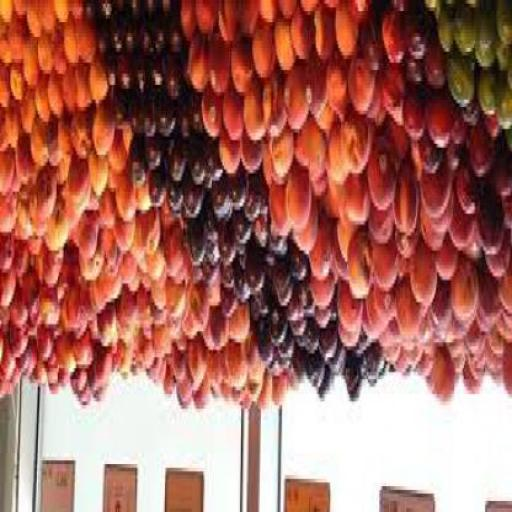biodegradable: (338, 110, 368, 180), (475, 184, 502, 258), (367, 140, 394, 214), (307, 210, 334, 284), (346, 44, 372, 118), (294, 122, 326, 180), (393, 162, 417, 239), (450, 262, 477, 328), (347, 232, 371, 306), (424, 92, 452, 155), (447, 184, 472, 254), (446, 44, 472, 111), (408, 247, 433, 313), (286, 166, 311, 232), (379, 66, 403, 133), (228, 37, 253, 100), (403, 4, 430, 62), (380, 8, 405, 70), (332, 4, 357, 66), (393, 284, 418, 346), (284, 66, 306, 136), (59, 162, 87, 217), (419, 173, 450, 221), (324, 59, 346, 126), (424, 30, 446, 96), (259, 82, 284, 140), (251, 26, 275, 85), (43, 195, 67, 254), (456, 154, 477, 221), (401, 92, 426, 148), (240, 78, 261, 144), (241, 169, 265, 225), (208, 33, 228, 100), (165, 232, 186, 295), (476, 273, 496, 339), (342, 177, 366, 232), (87, 350, 112, 402), (60, 291, 85, 343), (467, 122, 489, 180), (472, 4, 497, 55), (305, 55, 324, 122), (269, 132, 293, 184), (312, 8, 332, 70), (482, 236, 510, 280), (290, 11, 312, 67), (30, 177, 54, 228), (20, 272, 39, 336), (268, 188, 290, 243), (371, 247, 396, 295), (335, 288, 360, 336), (97, 236, 122, 284), (60, 247, 85, 295), (428, 354, 452, 402), (201, 88, 220, 148), (222, 92, 242, 148), (454, 4, 473, 62), (427, 195, 452, 239), (368, 210, 393, 254), (113, 291, 134, 343), (492, 77, 511, 133), (274, 22, 293, 78), (188, 37, 206, 96), (434, 240, 456, 288), (294, 210, 316, 258), (270, 262, 292, 310), (154, 92, 176, 140), (324, 129, 343, 184), (416, 136, 441, 177), (107, 129, 127, 180), (383, 125, 408, 165), (242, 250, 264, 295), (188, 284, 206, 339), (476, 74, 498, 118), (218, 140, 240, 184), (90, 114, 112, 158), (42, 247, 64, 291), (491, 154, 511, 202), (224, 350, 244, 398), (283, 246, 308, 284), (76, 250, 101, 288), (75, 26, 96, 70), (335, 217, 354, 265), (187, 339, 206, 387), (113, 180, 132, 228), (71, 118, 90, 166), (37, 287, 59, 328), (87, 158, 107, 203), (14, 191, 30, 247), (309, 273, 331, 313), (362, 347, 384, 387), (176, 89, 192, 144), (15, 343, 35, 387), (128, 140, 145, 191), (141, 210, 158, 261), (78, 214, 96, 262), (1, 332, 25, 368), (192, 4, 218, 37), (431, 287, 450, 332), (393, 228, 418, 262), (331, 228, 346, 284), (216, 4, 237, 44), (183, 225, 202, 269), (242, 339, 261, 383), (48, 132, 70, 170), (437, 4, 452, 59), (68, 368, 88, 409), (343, 358, 360, 406), (227, 169, 244, 217), (128, 52, 144, 103), (72, 70, 89, 118), (372, 291, 394, 328), (2, 106, 20, 151), (13, 143, 31, 188), (464, 321, 484, 361), (199, 199, 217, 243), (96, 306, 114, 350), (97, 195, 116, 236), (54, 339, 73, 380), (99, 269, 120, 306), (133, 339, 154, 376), (208, 310, 224, 358), (46, 78, 62, 126), (168, 143, 185, 188), (227, 346, 244, 391), (22, 41, 37, 92), (366, 295, 385, 335), (166, 284, 185, 324), (240, 140, 261, 176), (237, 4, 258, 40), (302, 358, 323, 394), (165, 173, 182, 217), (89, 70, 107, 111), (366, 81, 380, 133), (314, 332, 336, 365), (404, 62, 423, 100), (203, 150, 222, 188), (496, 269, 511, 317), (262, 144, 277, 192), (140, 88, 155, 136), (33, 81, 48, 129), (134, 288, 149, 336), (113, 347, 131, 387), (30, 129, 46, 173), (11, 254, 28, 295), (0, 187, 14, 236), (8, 294, 26, 332), (252, 213, 267, 258), (61, 33, 76, 78), (20, 92, 34, 140), (420, 228, 442, 258), (216, 225, 231, 269), (115, 52, 130, 96), (166, 328, 188, 358), (256, 324, 272, 365), (146, 59, 162, 100), (126, 7, 142, 48), (150, 276, 166, 317), (72, 336, 90, 372), (113, 224, 132, 258), (151, 324, 168, 362), (150, 15, 166, 55), (227, 314, 247, 346), (170, 343, 186, 383), (496, 302, 510, 347), (0, 235, 15, 277), (465, 354, 484, 387), (292, 284, 311, 317), (61, 70, 73, 122), (496, 4, 510, 48), (78, 284, 92, 328), (148, 169, 163, 210), (205, 361, 220, 402), (296, 324, 314, 358), (268, 310, 285, 346), (7, 30, 24, 66), (37, 37, 52, 77), (446, 343, 464, 376), (110, 96, 128, 129), (450, 114, 466, 151), (0, 272, 14, 314), (110, 7, 123, 52), (442, 144, 458, 180), (274, 332, 290, 368), (233, 262, 245, 310), (160, 214, 176, 250), (182, 180, 196, 221), (258, 4, 280, 30), (258, 372, 271, 416), (204, 276, 219, 314), (327, 188, 344, 221), (316, 368, 331, 405), (288, 354, 303, 391), (460, 369, 479, 398), (145, 140, 164, 169), (336, 328, 357, 354), (463, 239, 481, 269), (254, 284, 270, 317), (232, 221, 248, 254), (165, 59, 177, 103), (168, 11, 180, 55), (402, 343, 420, 372), (444, 320, 464, 346), (360, 314, 376, 346), (147, 250, 162, 284), (64, 206, 79, 240), (486, 358, 500, 394), (178, 4, 192, 40), (38, 4, 53, 37), (0, 154, 11, 199), (176, 372, 191, 405), (146, 361, 165, 387), (460, 100, 477, 129), (212, 188, 229, 217), (189, 147, 201, 188), (189, 103, 201, 144), (376, 328, 398, 350), (276, 4, 298, 26), (130, 225, 141, 269), (89, 288, 104, 320), (308, 176, 326, 202), (486, 332, 502, 361), (272, 379, 286, 412), (36, 332, 50, 365), (52, 44, 64, 82), (127, 96, 138, 137), (329, 350, 344, 380), (98, 18, 108, 63), (134, 191, 149, 221), (316, 111, 331, 140), (0, 353, 14, 384), (502, 350, 511, 398), (180, 48, 189, 96), (105, 56, 117, 92), (26, 4, 38, 40), (220, 291, 233, 324), (392, 354, 408, 380), (246, 379, 262, 405), (192, 386, 208, 412), (9, 70, 21, 104), (0, 66, 9, 111), (48, 170, 66, 192), (162, 368, 174, 401), (4, 365, 16, 398), (315, 306, 330, 332), (219, 265, 234, 291), (42, 350, 55, 380), (181, 310, 193, 342), (86, 321, 99, 350), (484, 122, 501, 144), (0, 33, 9, 74), (350, 4, 366, 26), (215, 358, 226, 390), (473, 52, 492, 70), (385, 4, 404, 22), (97, 4, 116, 22), (417, 362, 432, 384), (68, 4, 83, 26), (54, 4, 69, 26), (382, 350, 398, 369), (494, 48, 504, 78), (500, 206, 510, 236), (416, 310, 425, 342), (374, 114, 385, 140), (0, 4, 11, 30), (56, 375, 71, 394), (289, 321, 304, 339), (298, 4, 317, 18), (128, 276, 140, 298), (505, 44, 510, 96), (453, 361, 463, 387), (246, 302, 256, 328), (30, 365, 40, 391), (84, 4, 98, 22), (205, 247, 216, 269), (184, 276, 200, 291), (175, 398, 188, 416), (422, 4, 438, 18), (136, 262, 146, 284), (141, 26, 149, 52), (106, 176, 114, 202), (200, 272, 212, 288), (396, 262, 409, 276), (0, 375, 7, 401), (234, 258, 244, 276), (240, 398, 250, 416), (44, 372, 56, 387), (220, 386, 228, 408), (322, 4, 334, 18), (230, 390, 241, 405), (14, 4, 25, 18), (503, 136, 511, 154), (48, 386, 57, 398), (270, 369, 280, 376)
